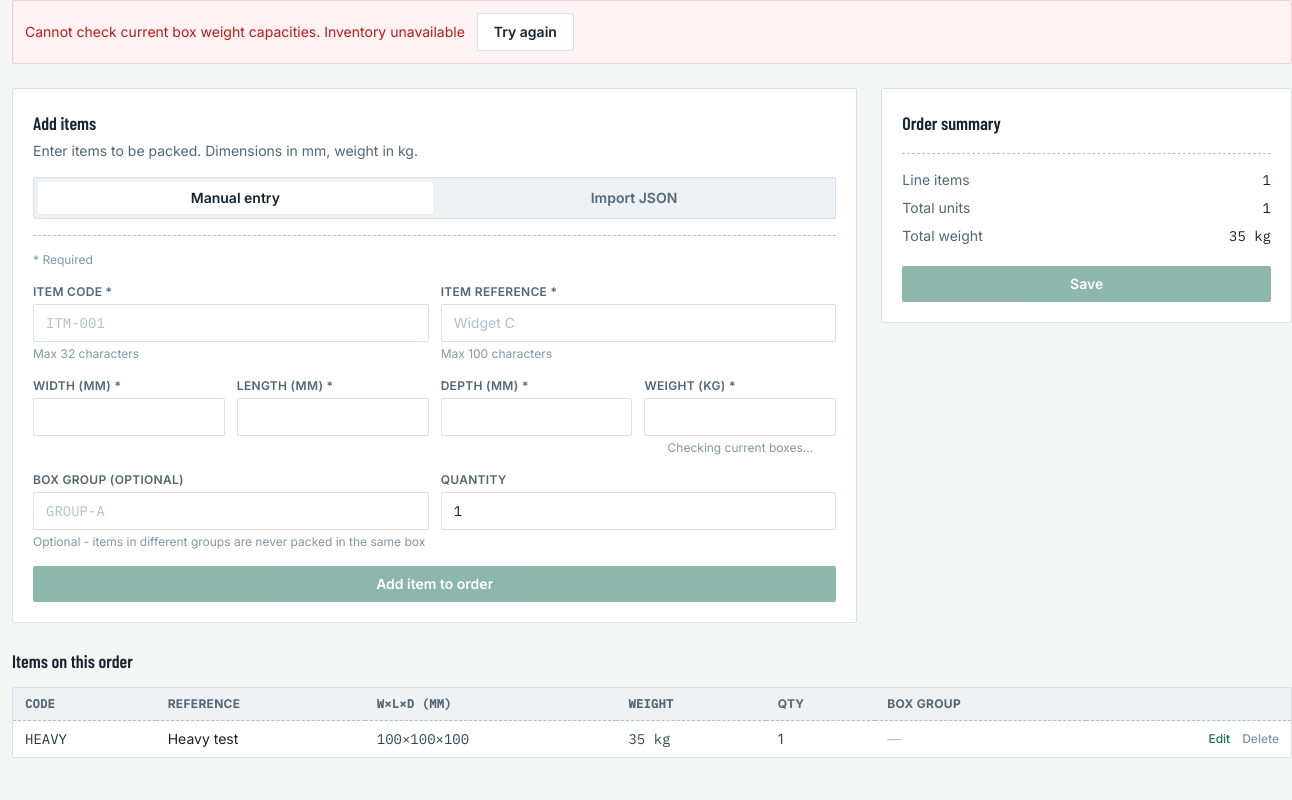
Test: current inventory limits while editing orders › shows a retry option and prevents saving when capacity cannot be checked
Expected: the button "Save" is disabled, top-left (902, 266), bottom-right (1271, 302)
Click the button "Try again" at (525, 32), box top-left (477, 13), bottom-right (574, 51)
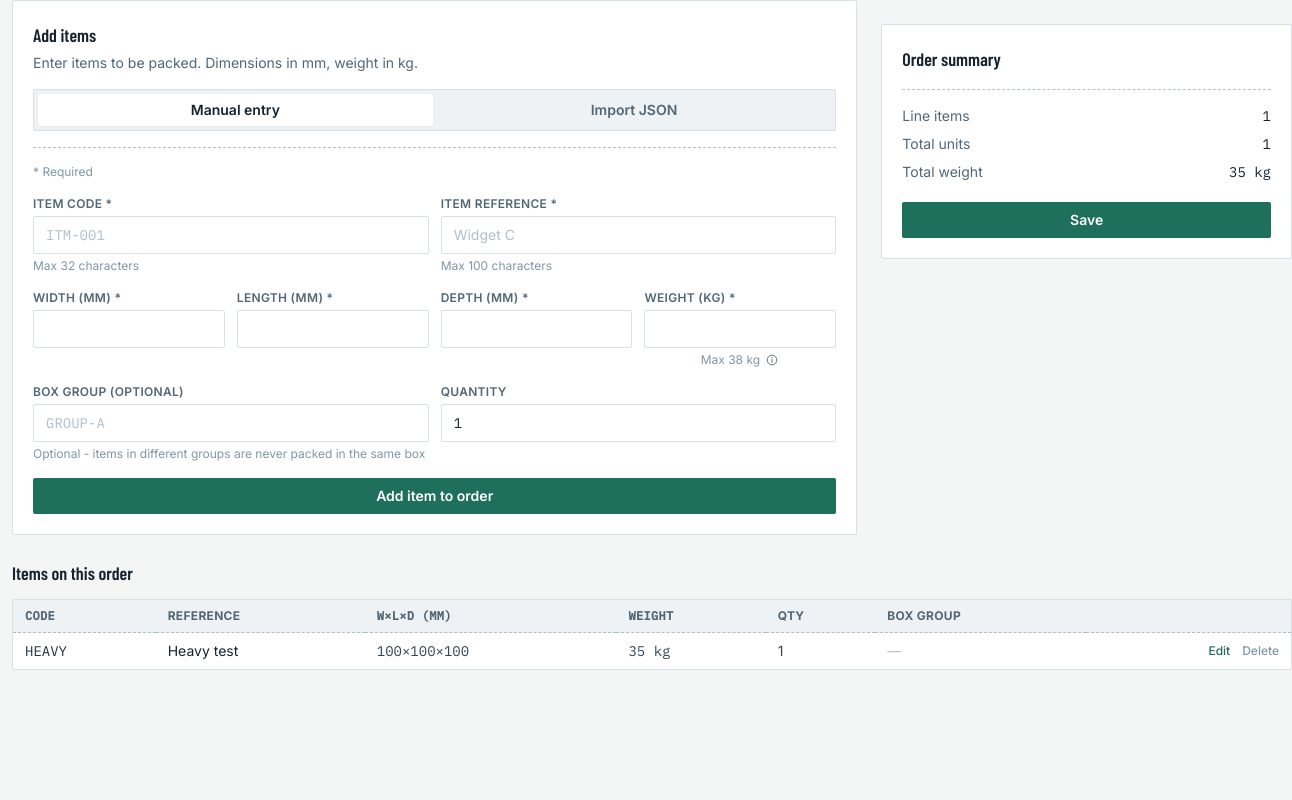
Now the button "Save" is enabled, box top-left (902, 202), bottom-right (1271, 238)
